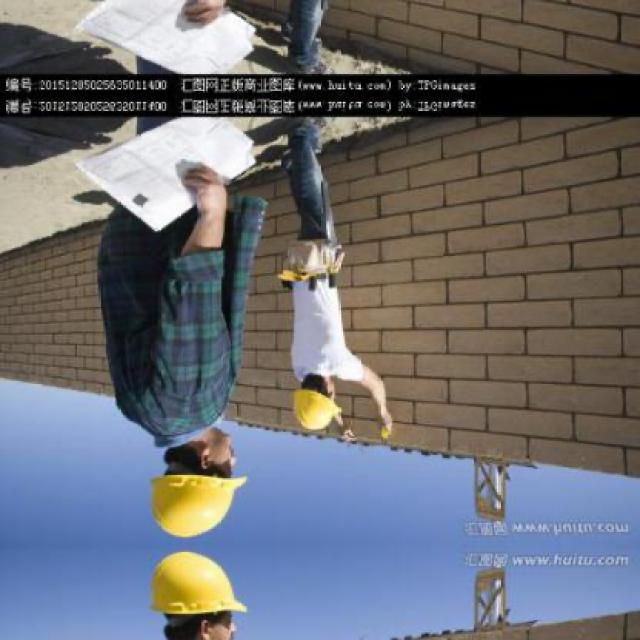con casco: (146, 419, 268, 543), (289, 356, 369, 456)
